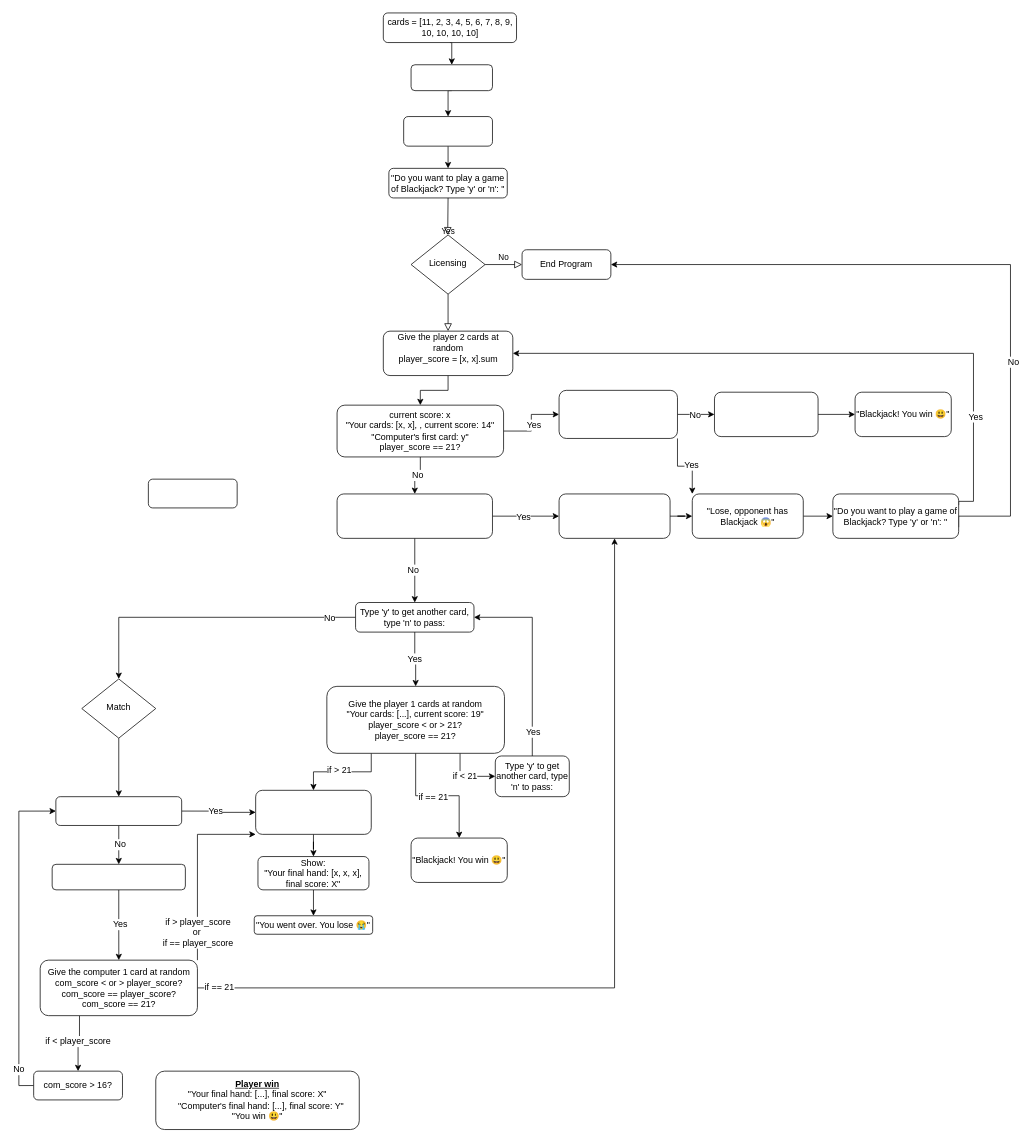
Image size: 1032x1143. Some labels were removed from this diagram. Here are the shapes that lost their labels. From the top down, the centre of each, then its label:
(x=451, y=77): player_score = 0 com_score = 0
(x=447, y=131): player_card = [] com_card = []
(x=617, y=414): Give the computer 2 cards at random com_score = [x, x].sum Total == 21?
(x=766, y=414): "Your final hand: [x, x], final score: 21"
(x=414, y=515): Give the computer 2 cards at random com_score == 21?
(x=614, y=515): "Computer's final hand: [y, y], final score: 21"
(x=118, y=810): com_score == player_score?
(x=313, y=812): Show: "Computer's final hand: [y, y, y], final score: Y"
(x=118, y=877): com_score < player_score?
